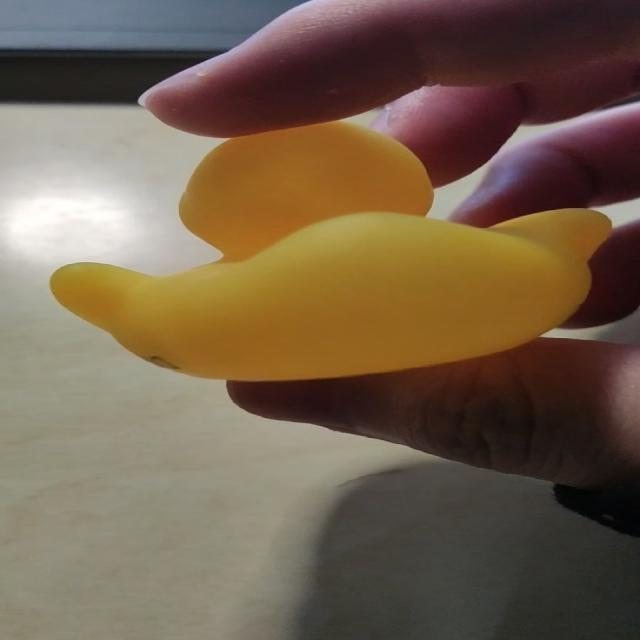rubber-duck: (50, 121, 609, 379)
